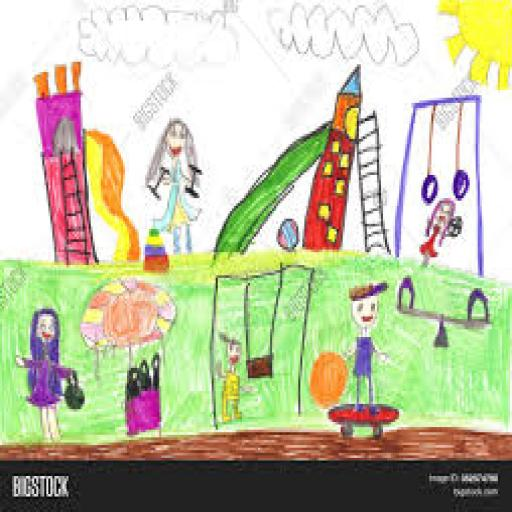person: (136, 112, 210, 258), (11, 298, 80, 448), (323, 272, 393, 414), (405, 192, 467, 267), (209, 329, 254, 424)
